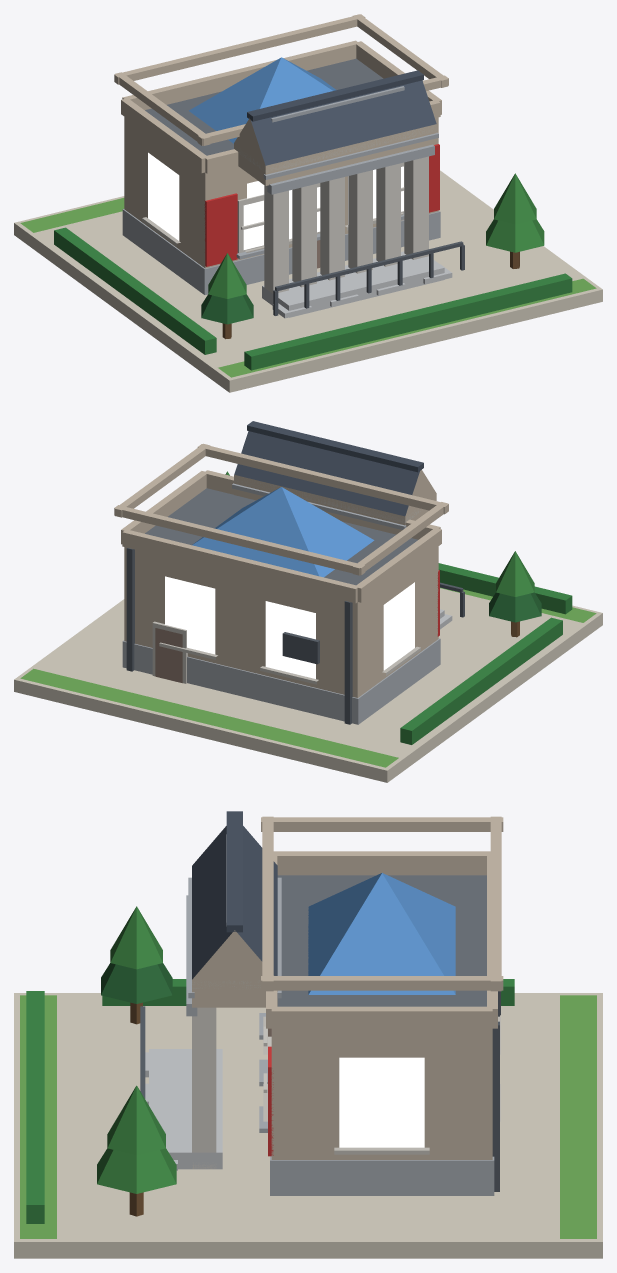
The picture shows the model from 3 angles, top to bottom: view 1: azimuth 30°, elevation 25°; view 2: azimuth 150°, elevation 25°; view 3: azimuth 270°, elevation 25°; orthographic projection. The views are drawn at different scales.
Parts seen in each view (by area): view 1: b25; view 2: b25; view 3: b25.
Part boxes in pixels (x1=…): b25: x1=14, y1=14, x2=602, y2=392; b25: x1=14, y1=421, x2=602, y2=782; b25: x1=14, y1=811, x2=602, y2=1258.
Bounding box in the file's own units: 0.96 × 0.4783 × 0.96.
